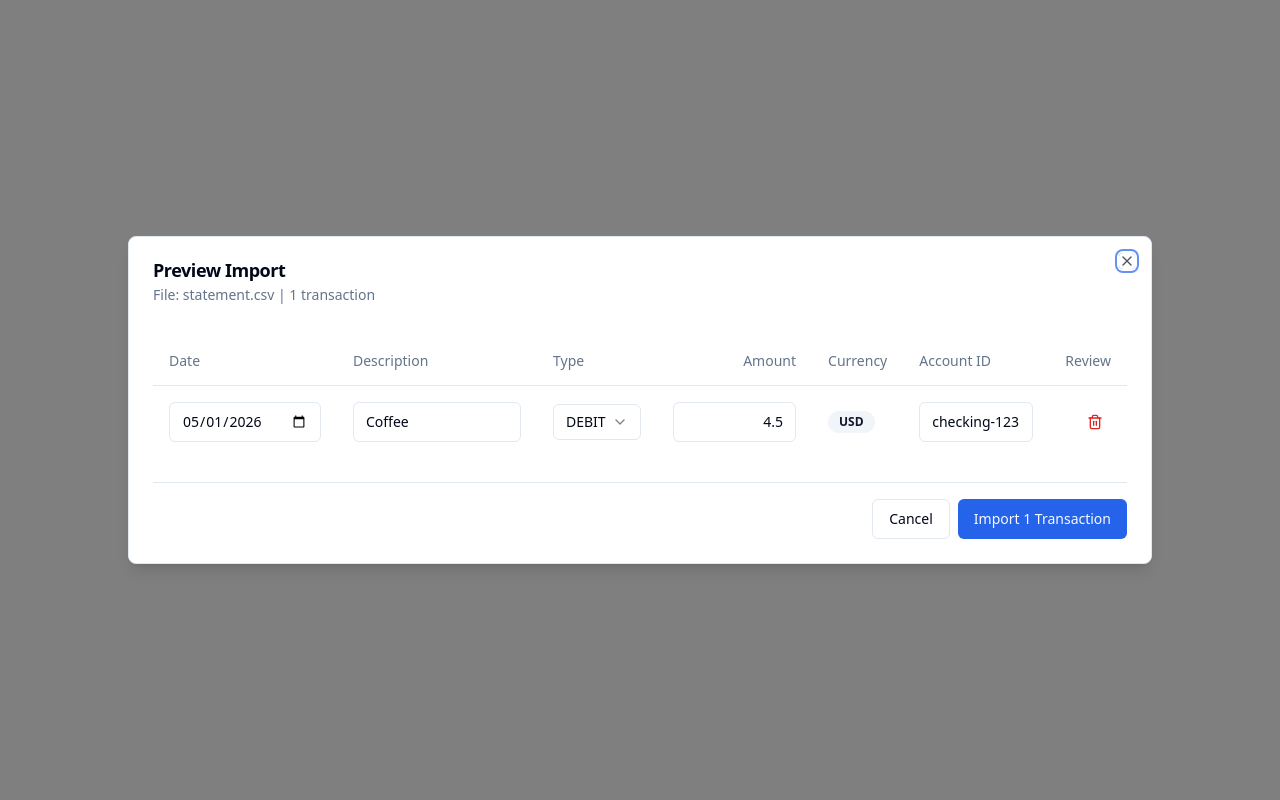
Test: TransactionPreviewModal › clears failed import feedback when the review dialog closes
Click the button "Import 1 Transaction".
click(1042, 519)  # box top-left (958, 499), bottom-right (1127, 539)
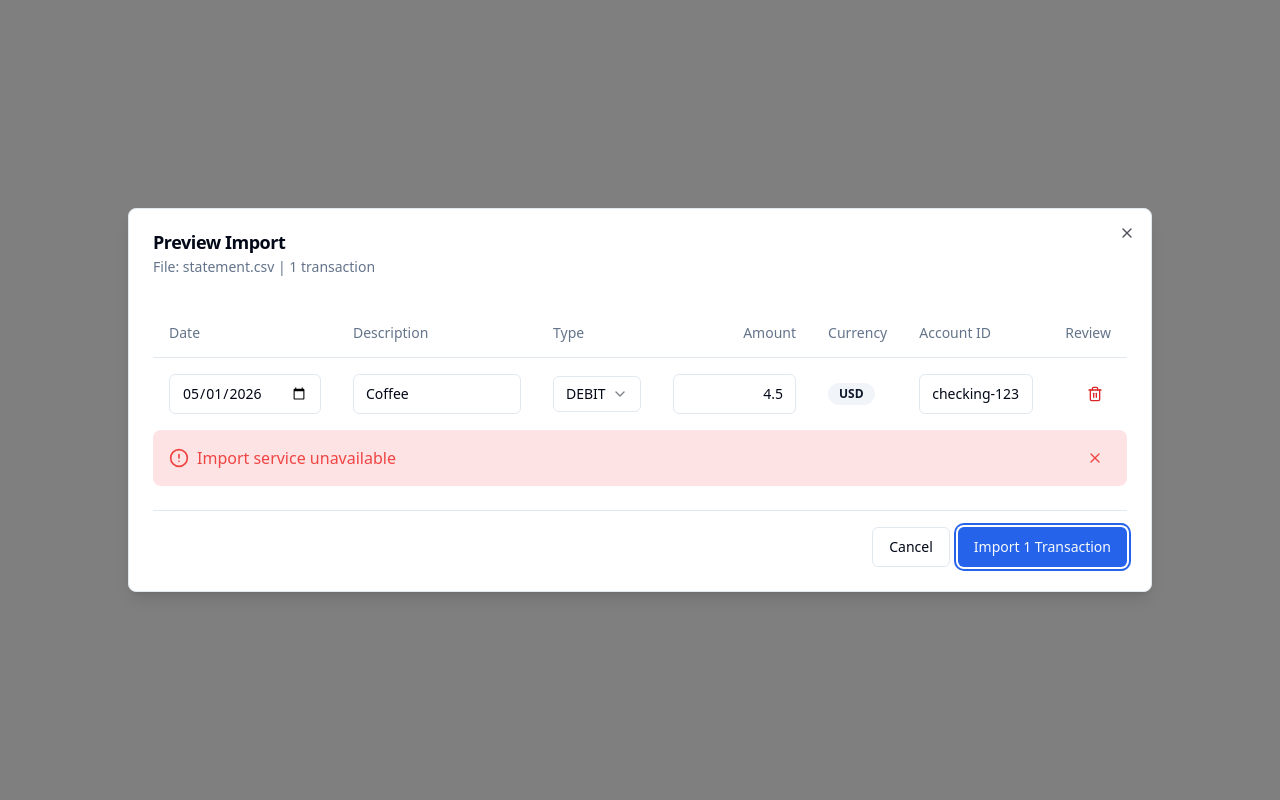
Expected: the message reads "Import service unavailable", top-left (197, 447), bottom-right (396, 469)
Click the button "Cancel".
click(911, 547)  # box top-left (872, 527), bottom-right (950, 567)
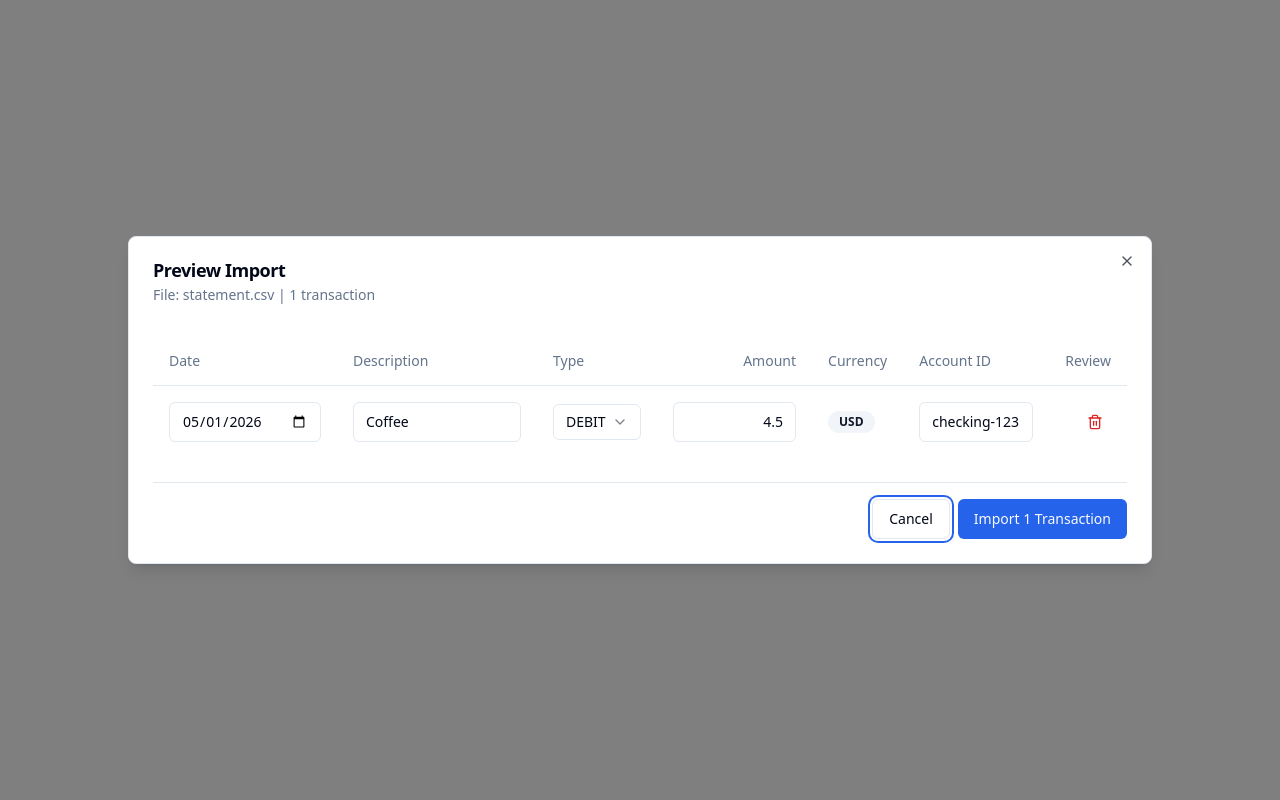
Expected: the message "Import service unavailable" is gone
